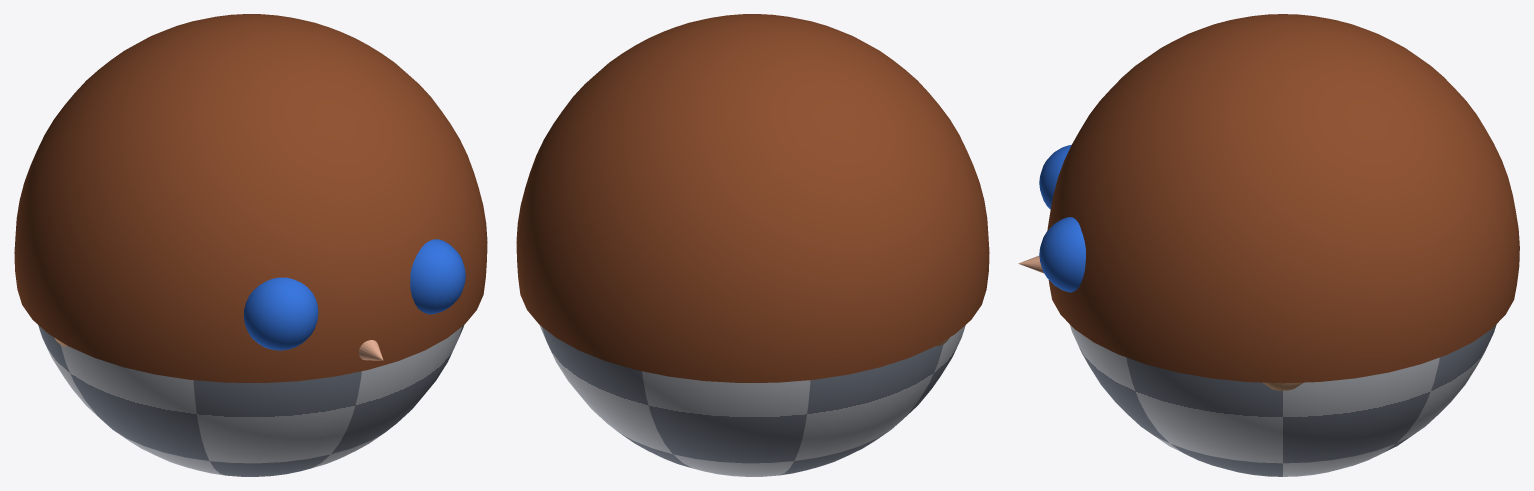
The model's file is personagem-fixtures.glb.
The picture shows the model from 3 angles, left to right: view 1: azimuth 30°, elevation 25°; view 2: azimuth 150°, elevation 25°; view 3: azimuth 270°, elevation 25°; orthographic projection.
Visible parts, largest first — view 1: FIXT_Cabelo_Malha, FIXT_Base_Malha, FIXT_Olho_Esq_Malha, FIXT_Olho_Dir_Malha; view 2: FIXT_Cabelo_Malha, FIXT_Base_Malha; view 3: FIXT_Cabelo_Malha, FIXT_Base_Malha, FIXT_Olho_Dir_Malha, FIXT_Olho_Esq_Malha.
Boxes of the visible parts, x1,y1,x2,y2 form: FIXT_Cabelo_Malha: (14,14,487,382); FIXT_Base_Malha: (38,325,464,476); FIXT_Olho_Esq_Malha: (243,277,318,350); FIXT_Olho_Dir_Malha: (410,239,465,314); FIXT_Cabelo_Malha: (516,14,989,382); FIXT_Base_Malha: (539,325,965,476); FIXT_Cabelo_Malha: (1047,14,1519,383); FIXT_Base_Malha: (1069,324,1496,476); FIXT_Olho_Dir_Malha: (1039,217,1085,292); FIXT_Olho_Esq_Malha: (1039,145,1071,209).
Size of the model in its own units: 0.6699 by 0.655 by 0.71.
Materials: 5 (1 with a texture image).
